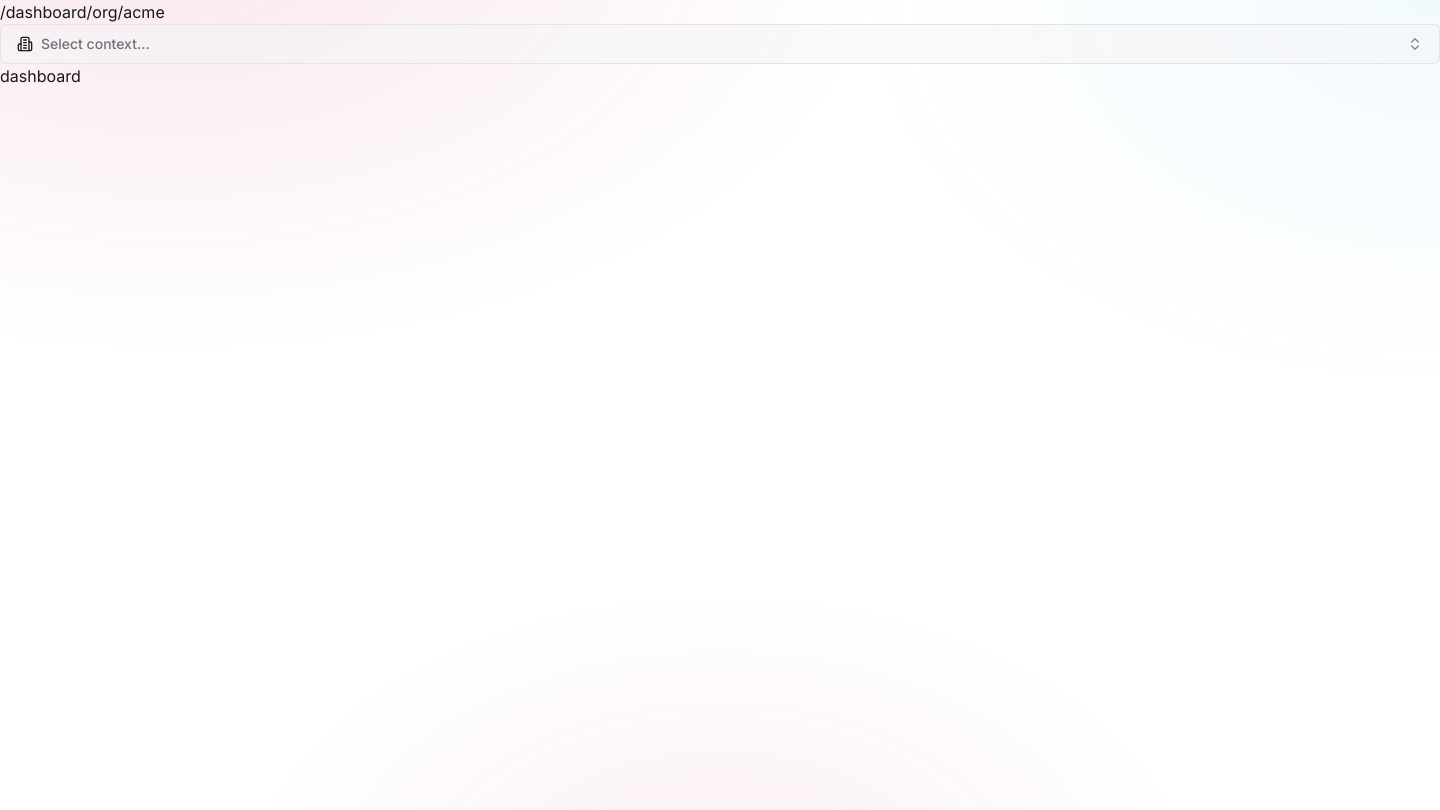
Test: ContextSwitcher › switches organizations through the router without a full reload
Check: the text with test id "location" reads "/dashboard/org/acme", box [0,2,165,22]
What coordinates should you click on to do the following:
click the dropdown
I would click on:
 (95, 44)
Its box is [0,24,1439,64].
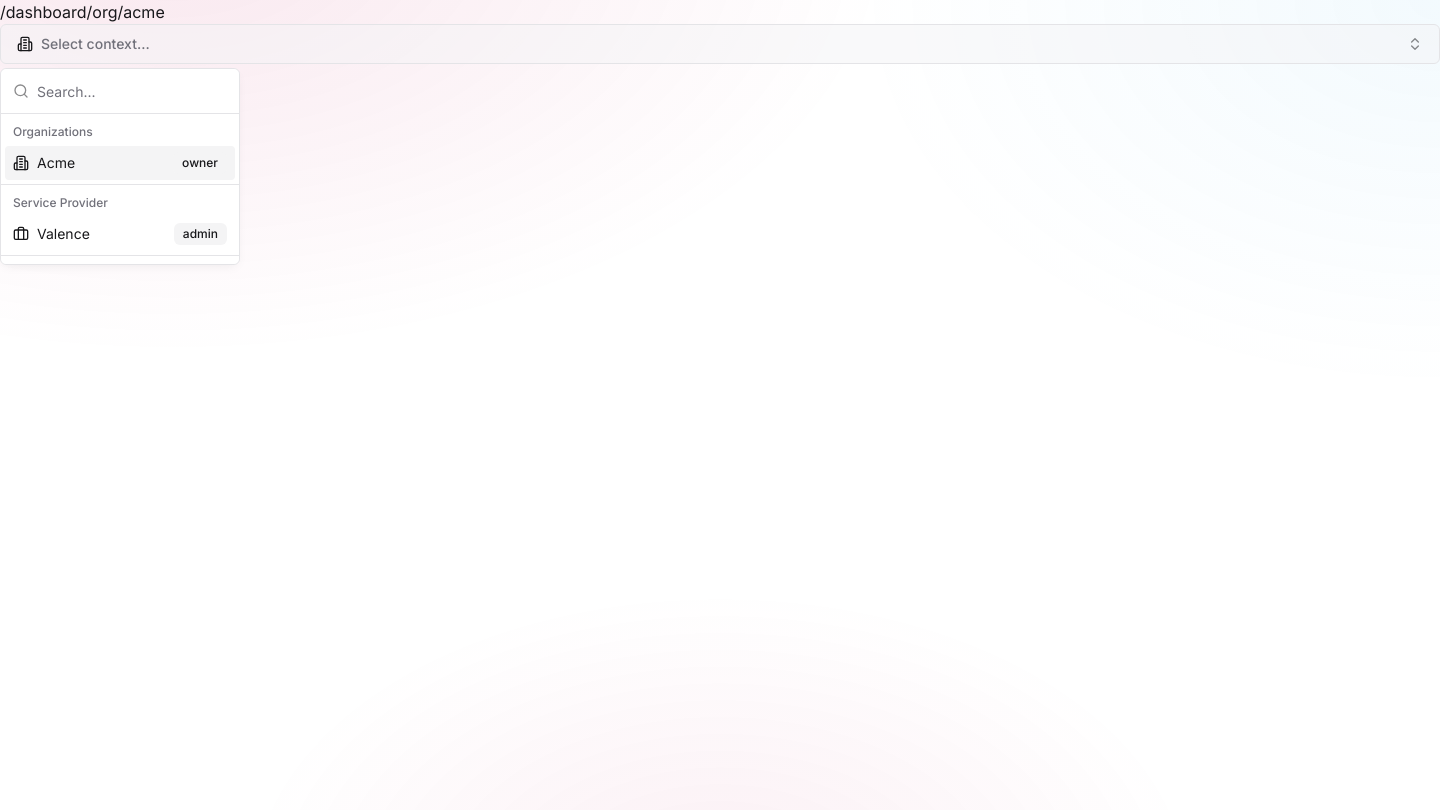
What coordinates should you click on to do the following:
click the text "Valence"
I would click on:
 (63, 234)
Its box is [37,225,90,242].
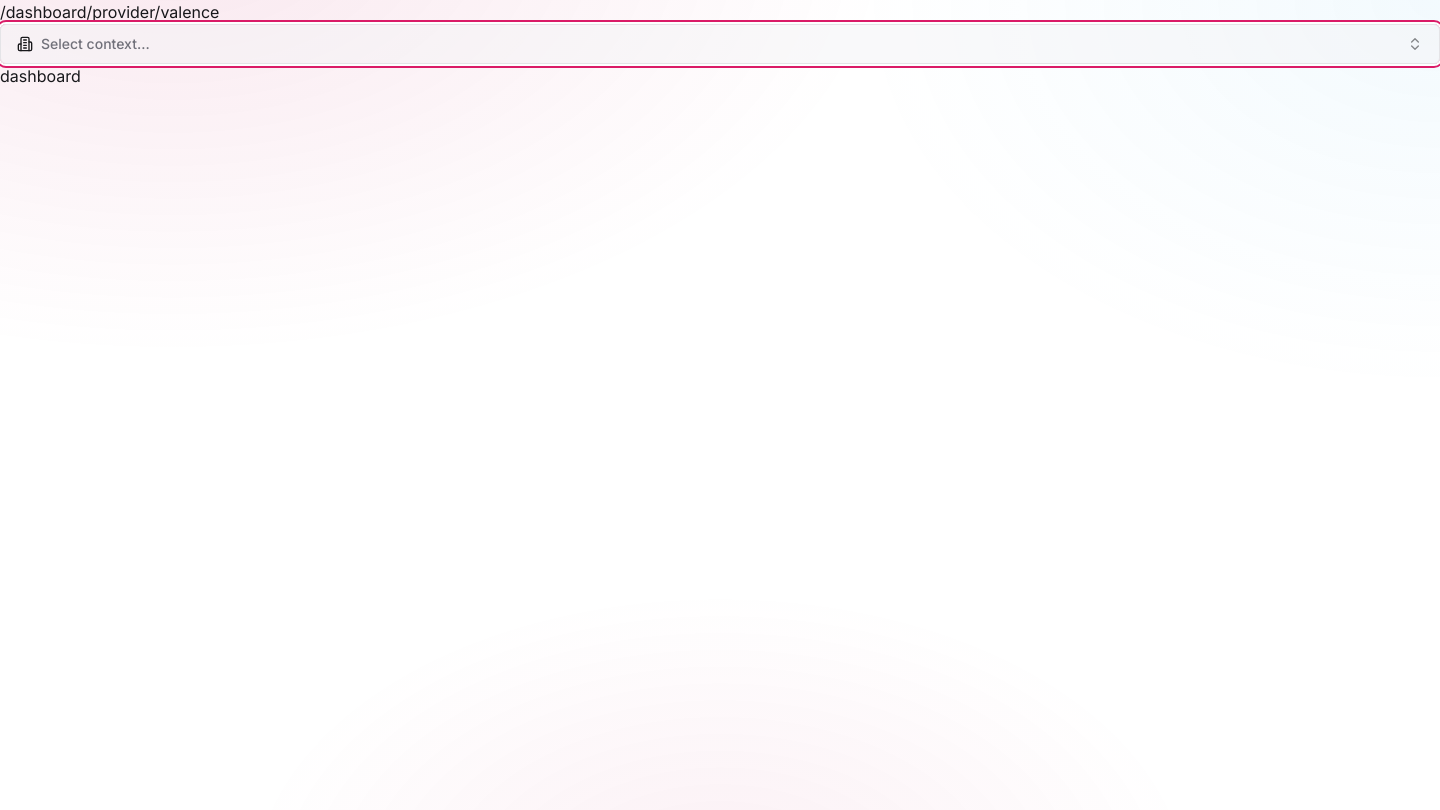
Check: the text with test id "location" reads "/dashboard/provider/valence", box [0,2,219,22]
